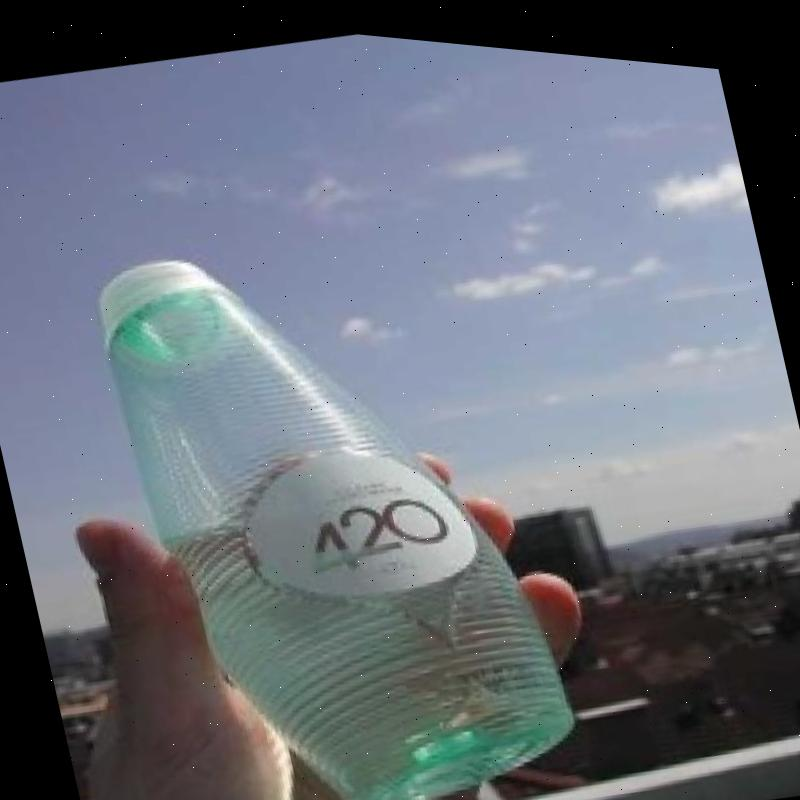botella: (83, 180, 593, 800)
